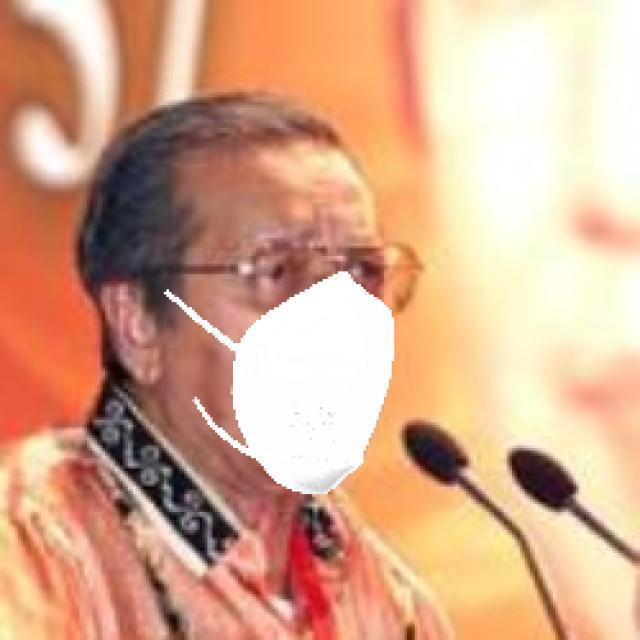kn95: (148, 153, 396, 503)
